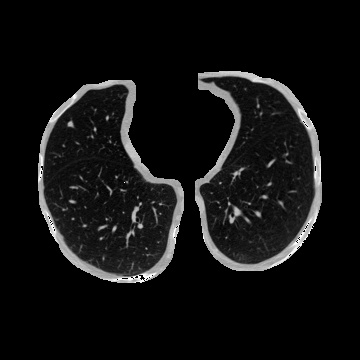PN: (66, 120, 74, 128)
